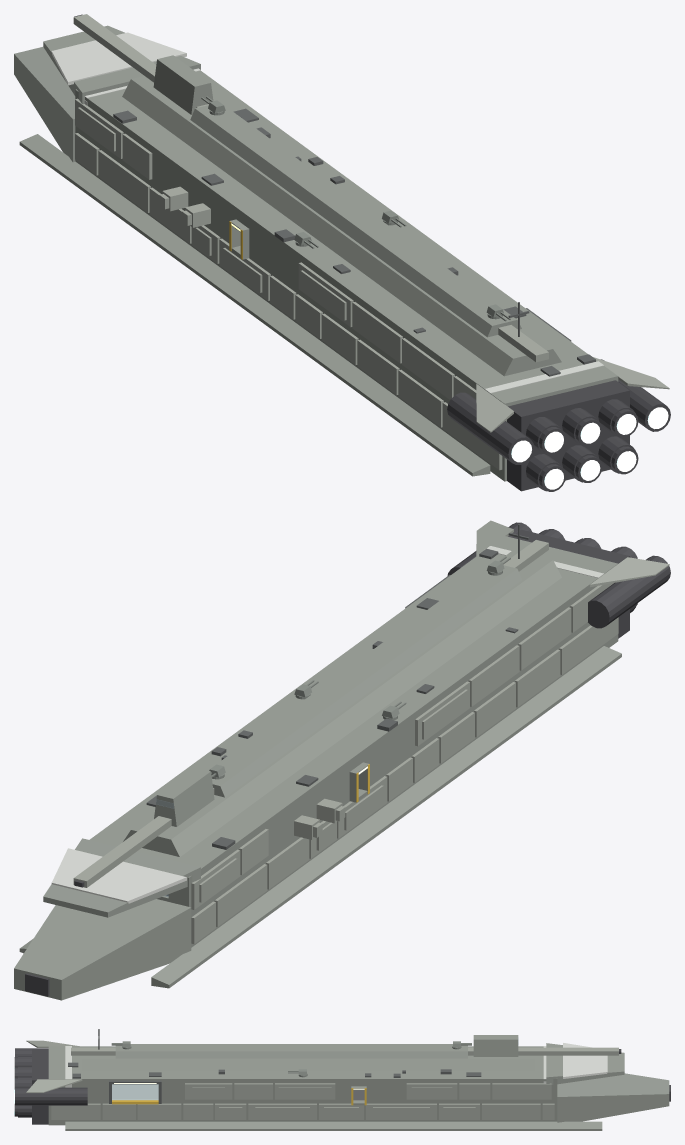
File: ship_SMALL_DROP_FRIGATE_v1.glb
The picture shows the model from 3 angles, top to bottom: view 1: azimuth 30°, elevation 25°; view 2: azimuth 150°, elevation 25°; view 3: azimuth 270°, elevation 25°; orthographic projection. The views are drawn at different scales.
Visible parts, largest first — view 1: SMALL_DROP_FRIGATE_Hull-col, SMALL_DROP_FRIGATE_Armor, SMALL_DROP_FRIGATE_Engines, SMALL_DROP_FRIGATE_Accent, SMALL_DROP_FRIGATE_EngineGlow, SMALL_DROP_FRIGATE_Details; view 2: SMALL_DROP_FRIGATE_Hull-col, SMALL_DROP_FRIGATE_Armor, SMALL_DROP_FRIGATE_Engines, SMALL_DROP_FRIGATE_Accent, SMALL_DROP_FRIGATE_Details; view 3: SMALL_DROP_FRIGATE_Hull-col, SMALL_DROP_FRIGATE_Armor, SMALL_DROP_FRIGATE_Engines, SMALL_DROP_FRIGATE_Accent, SMALL_DROP_FRIGATE_CargoBayDoor-col, SMALL_DROP_FRIGATE_CargoBayShield, SMALL_DROP_FRIGATE_Details, SMALL_DROP_FRIGATE_Trim, SMALL_DROP_FRIGATE_Hazard.
Boxes of the visible parts, x1,y1,x2,y2 form: SMALL_DROP_FRIGATE_Hull-col: (14,25,618,481); SMALL_DROP_FRIGATE_Armor: (73,14,669,470); SMALL_DROP_FRIGATE_Engines: (74,14,670,491); SMALL_DROP_FRIGATE_Accent: (51,32,603,393); SMALL_DROP_FRIGATE_EngineGlow: (511,407,668,489); SMALL_DROP_FRIGATE_Details: (113,108,595,376); SMALL_DROP_FRIGATE_Hull-col: (14,536,621,1000); SMALL_DROP_FRIGATE_Armor: (73,520,669,943); SMALL_DROP_FRIGATE_Engines: (25,522,670,996); SMALL_DROP_FRIGATE_Accent: (51,546,603,903); SMALL_DROP_FRIGATE_Details: (146,524,529,849); SMALL_DROP_FRIGATE_Hull-col: (48,1035,669,1130); SMALL_DROP_FRIGATE_Armor: (26,1040,618,1119); SMALL_DROP_FRIGATE_Engines: (14,1048,670,1124); SMALL_DROP_FRIGATE_Accent: (65,1043,607,1087); SMALL_DROP_FRIGATE_CargoBayDoor-col: (112,1084,158,1099); SMALL_DROP_FRIGATE_CargoBayShield: (112,1084,158,1099); SMALL_DROP_FRIGATE_Details: (68,1029,481,1078); SMALL_DROP_FRIGATE_Trim: (109,1080,161,1103); SMALL_DROP_FRIGATE_Hazard: (112,1088,366,1105).
Bounding box in the file's own units: 21.9 × 17.4 × 118.
